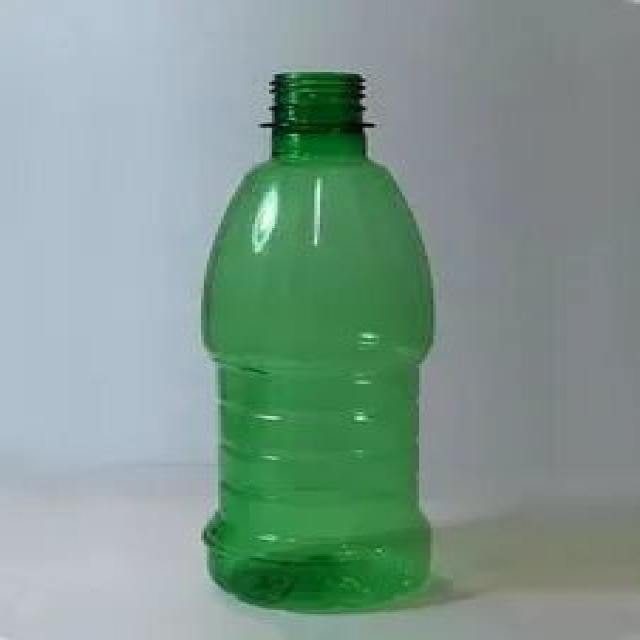green: (201, 71, 434, 612)
